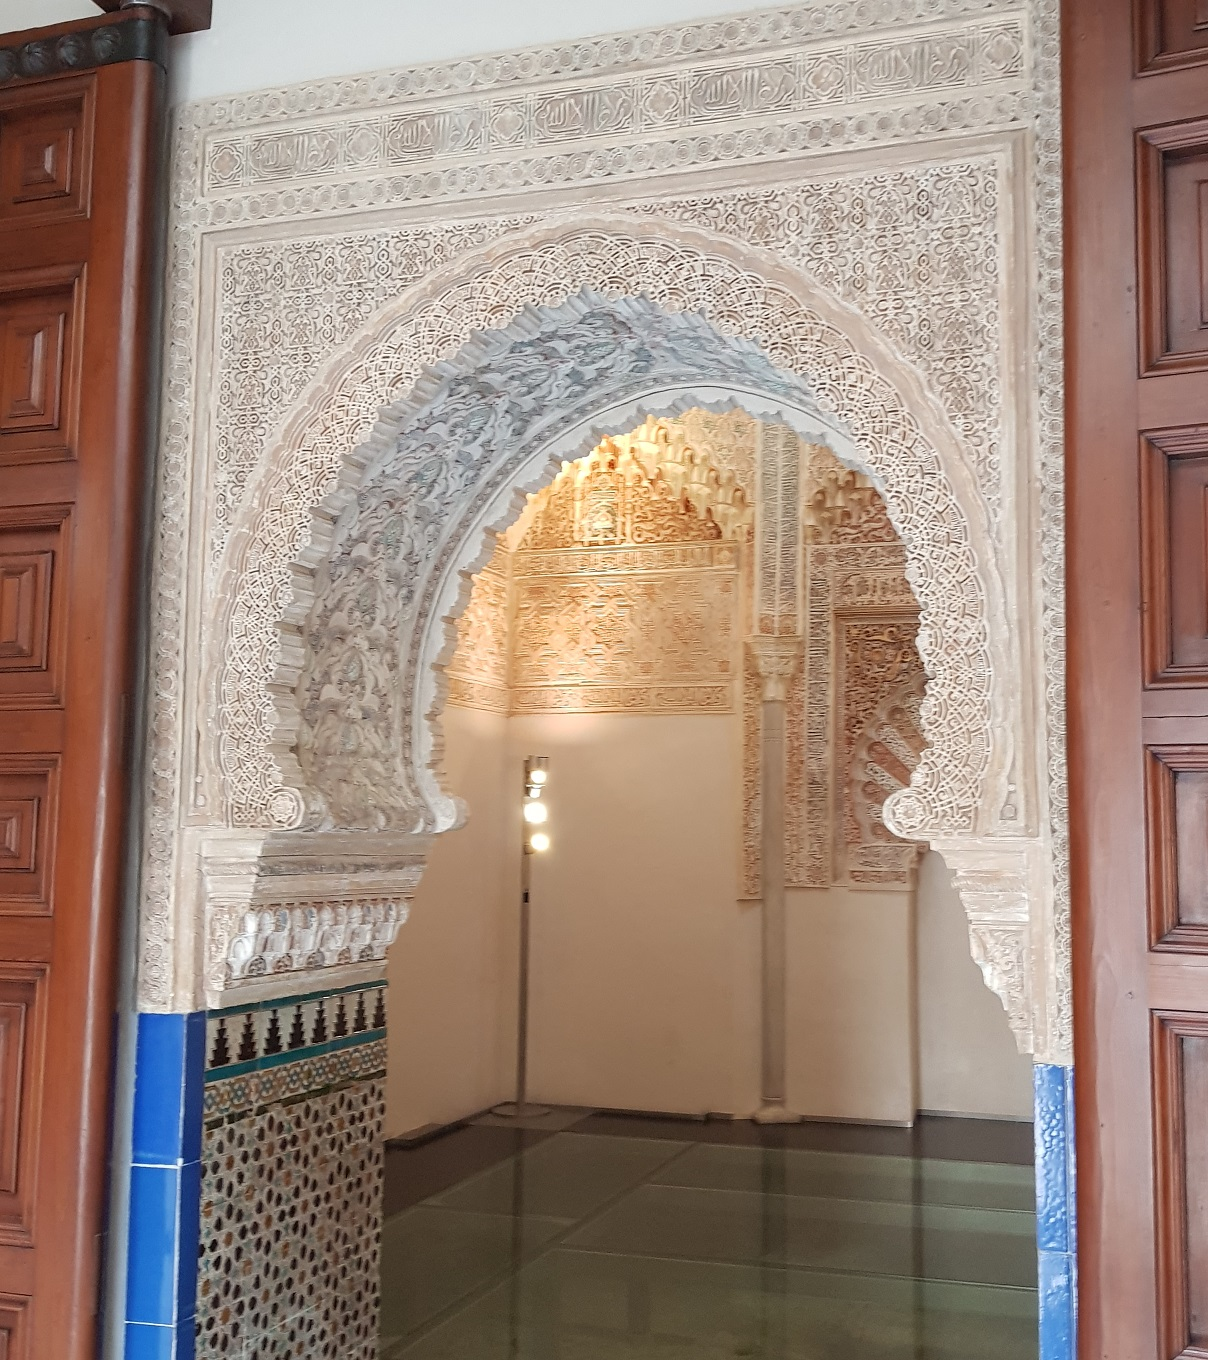arco-herradura: (212, 245, 1021, 994)
